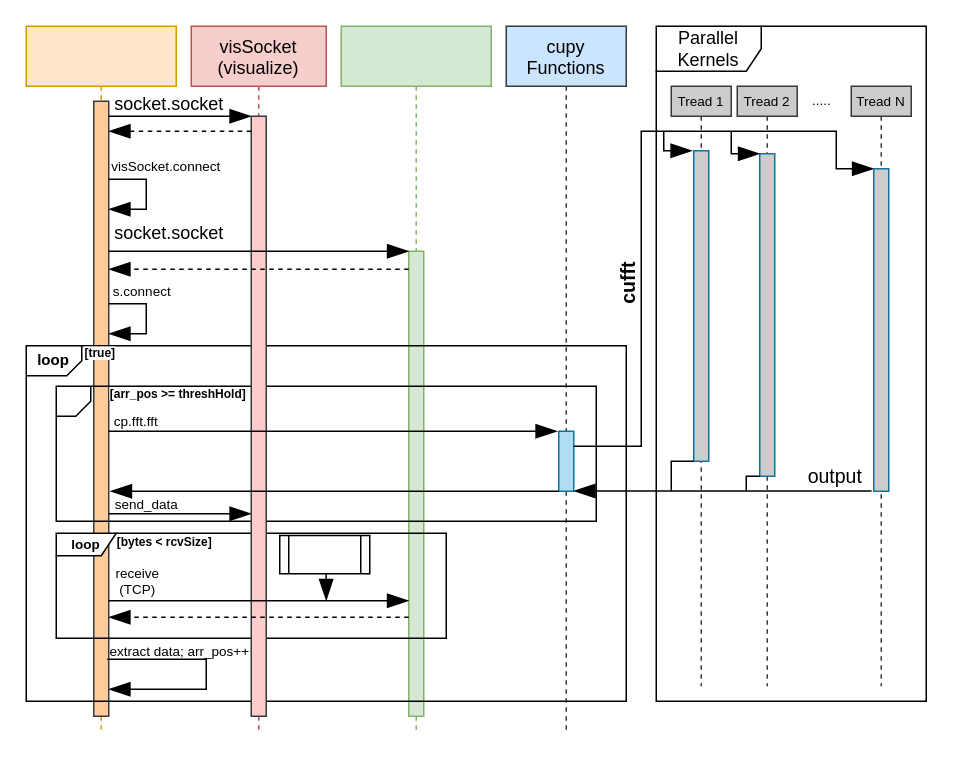
Image size: 953x758. Some labels were removed from this diagram. The shapes that lost their labels are listed below. From the top down, each one's box as (x1, y1, x2, y2) in pixels, then its label:
(25, 25, 176, 731): __main__
(340, 25, 491, 731): receive Socket (s)
(55, 385, 596, 521): alt
(278, 534, 370, 574): StreamWriter
